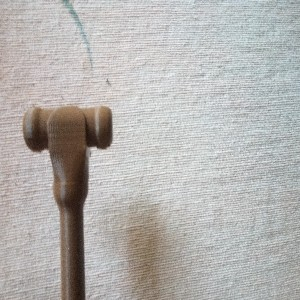palu: (22, 104, 113, 300)
